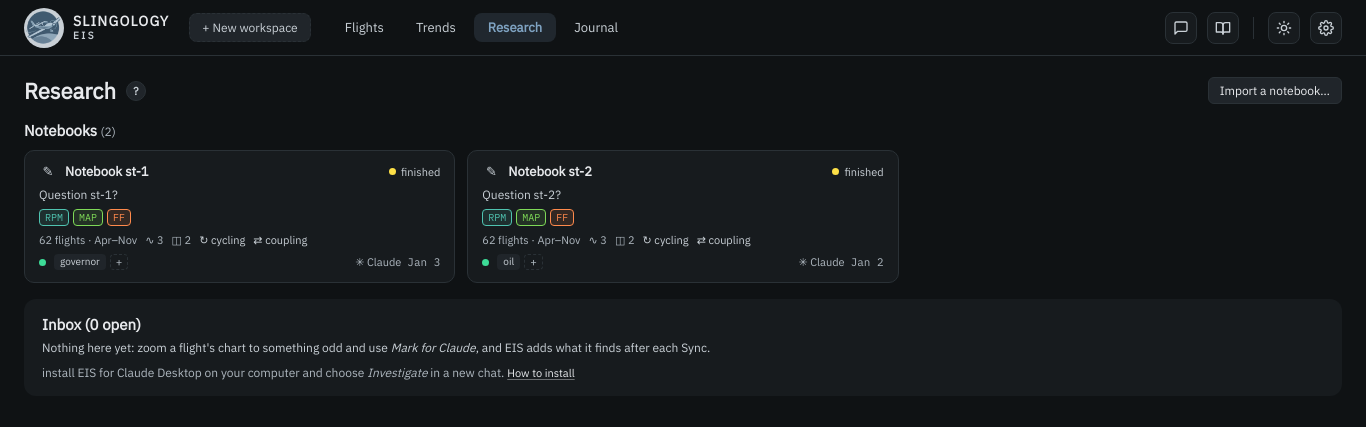
Test: Research home (Spec 03 v0.34) › no filter row up to six notebooks; a clicked tag filters the grid and can be cleared
This screenshot has width=1366, height=427.
Step 1. Click the button with test id "card-tag" showing "oil" → (509, 262), box x1=497 y1=254 x2=520 y2=270
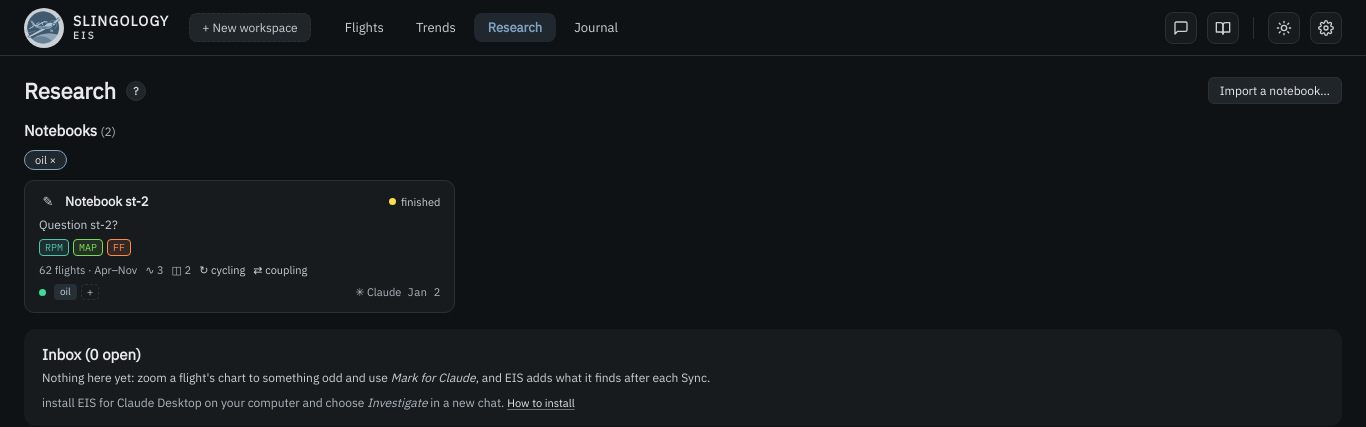
Step 2. Click the button with test id "notebook-filter-tag" → (46, 160), box x1=24 y1=150 x2=67 y2=170
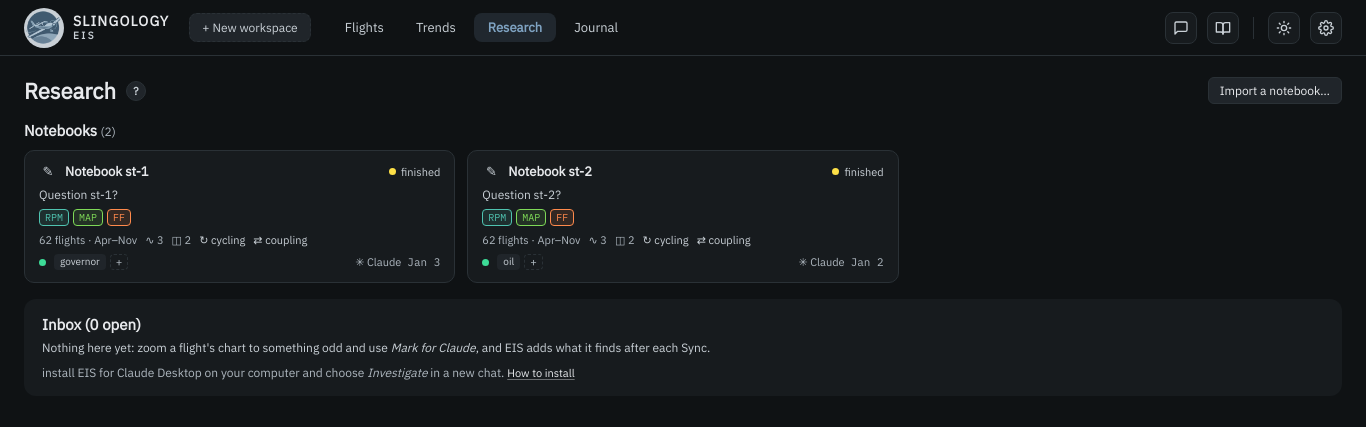
Expected: the number of elements with test id "notebook-card" is 2, x1=24 y1=150 x2=455 y2=283; x1=467 y1=150 x2=899 y2=283
